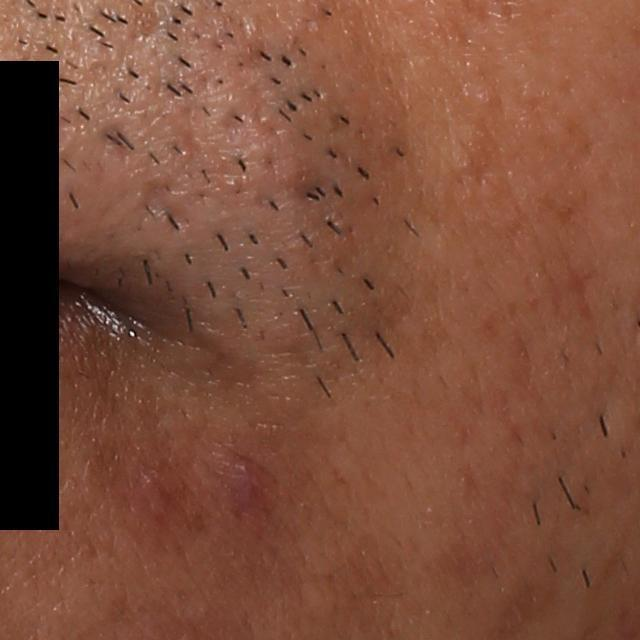atrophic_scar: (133, 174, 197, 232), (96, 123, 138, 165)
